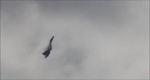maybay_muctieu: (42, 35, 55, 60)
